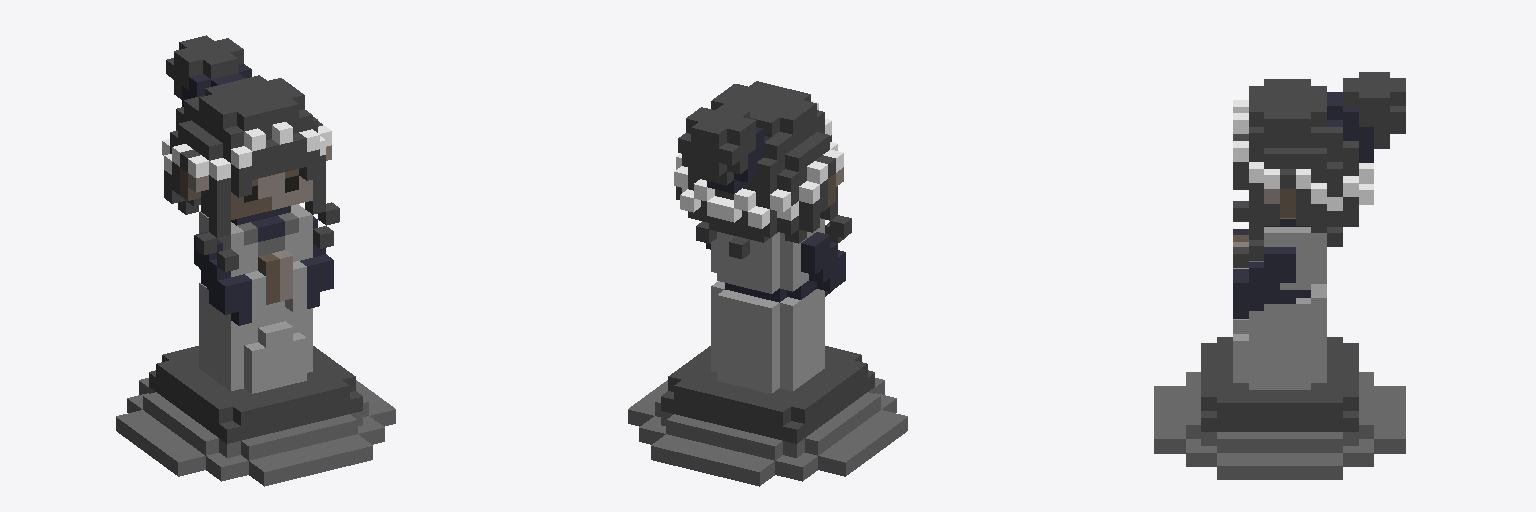
3 views of the same model, side by side, from view 1: azimuth 30°, elevation 25°; view 2: azimuth 150°, elevation 25°; view 3: azimuth 270°, elevation 25° (orthographic).
Size of the model in its own units: 16 by 24 by 16.
Materials: 1 (1 with a texture image).